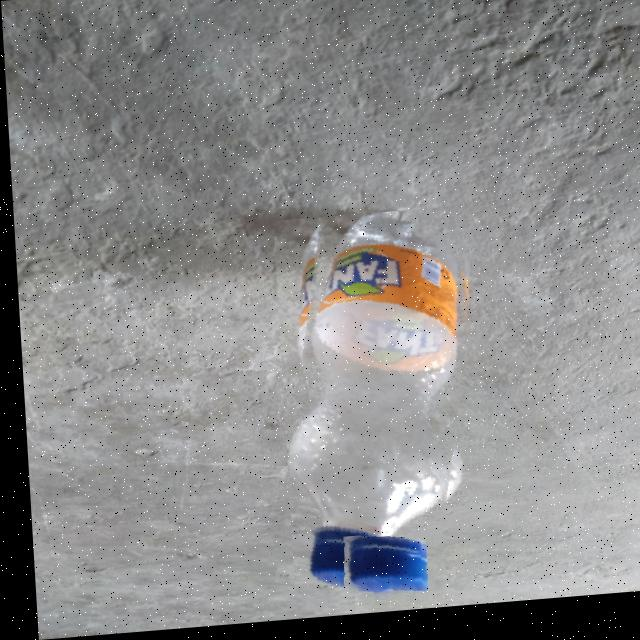litter: (269, 212, 487, 614), (334, 542, 421, 602)
